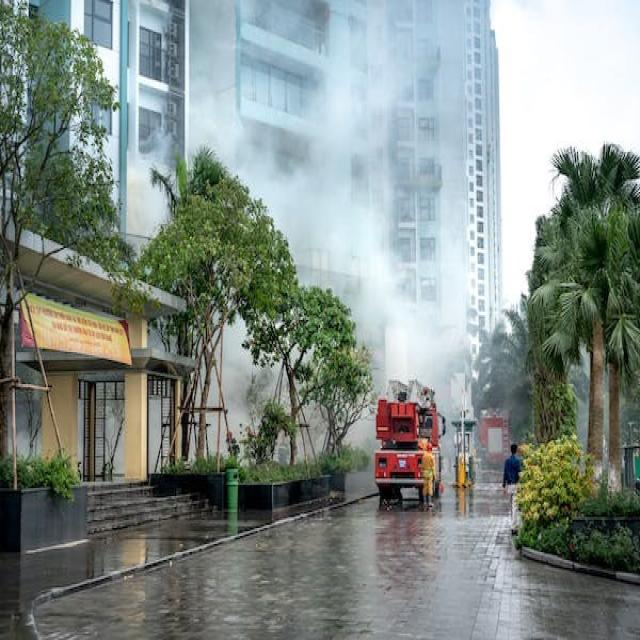Smoke: (126, 0, 536, 451)
